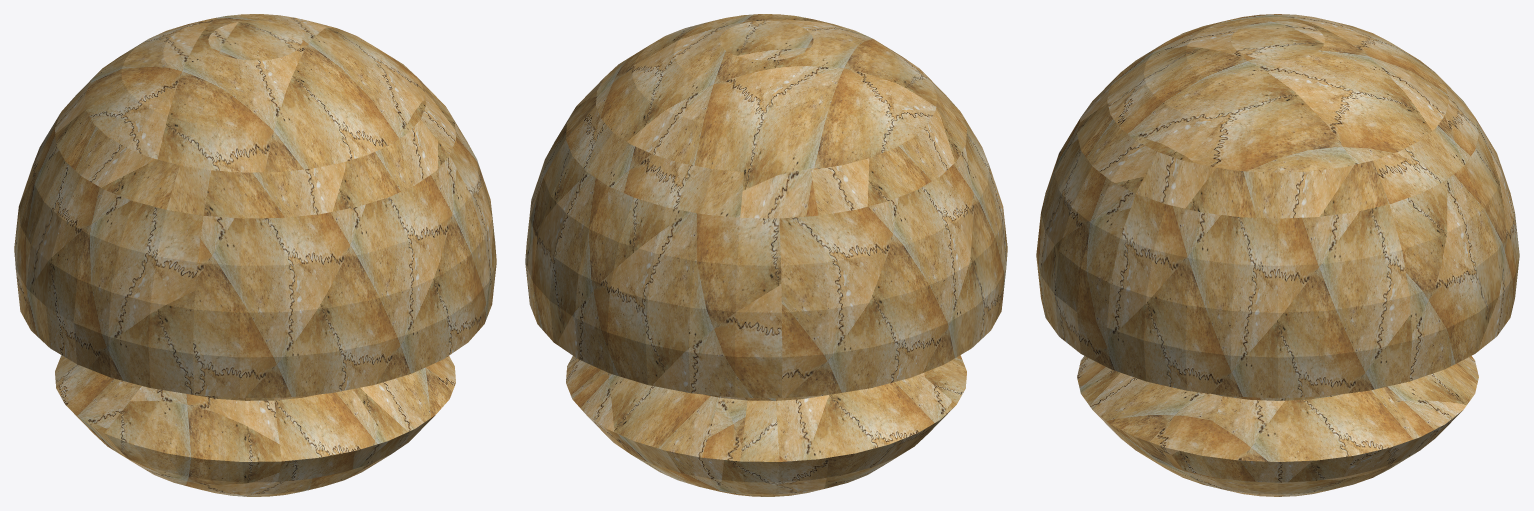
The model's file is PillLevel.fbx.
3 renders of one model, left to right at view 1: azimuth 30°, elevation 25°; view 2: azimuth 150°, elevation 25°; view 3: azimuth 270°, elevation 25°, orthographic.
Parts seen in each view (by area): view 1: Skull; view 2: Skull; view 3: Skull.
Part boxes in pixels (x1,y1,x2,y2): Skull: [14, 14, 496, 496]; Skull: [525, 14, 1007, 496]; Skull: [1036, 14, 1519, 496].
Bounding box in the file's own units: 2755 × 2755 × 2755.
Materials: 3 (2 with a texture image).
